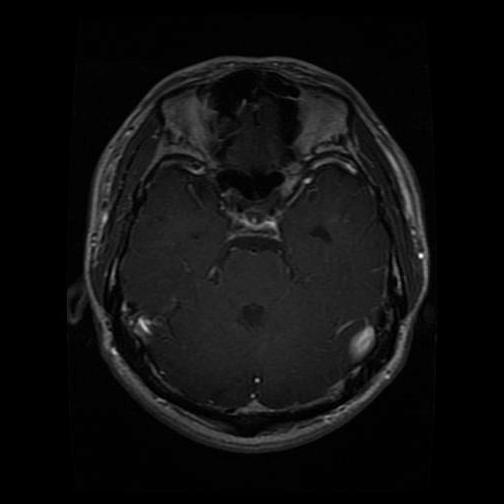Tumour-Glioma: (325, 301, 397, 387)
